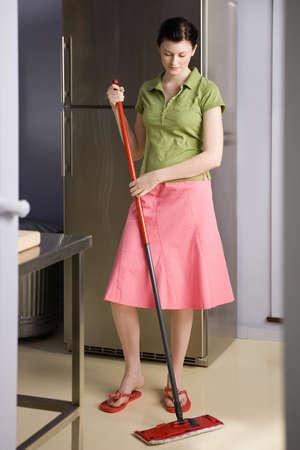person: (102, 17, 236, 414)
